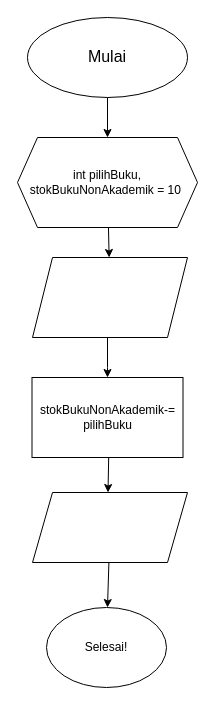
Image size: 215x705. Some labels were removed from this diagram. The shapes that lost their labels are listed below. From the top down, each one's centre as x and y in pixels, then its label:
(110,297): pilihBuku
(110,527): stokBukuNonAkademik
